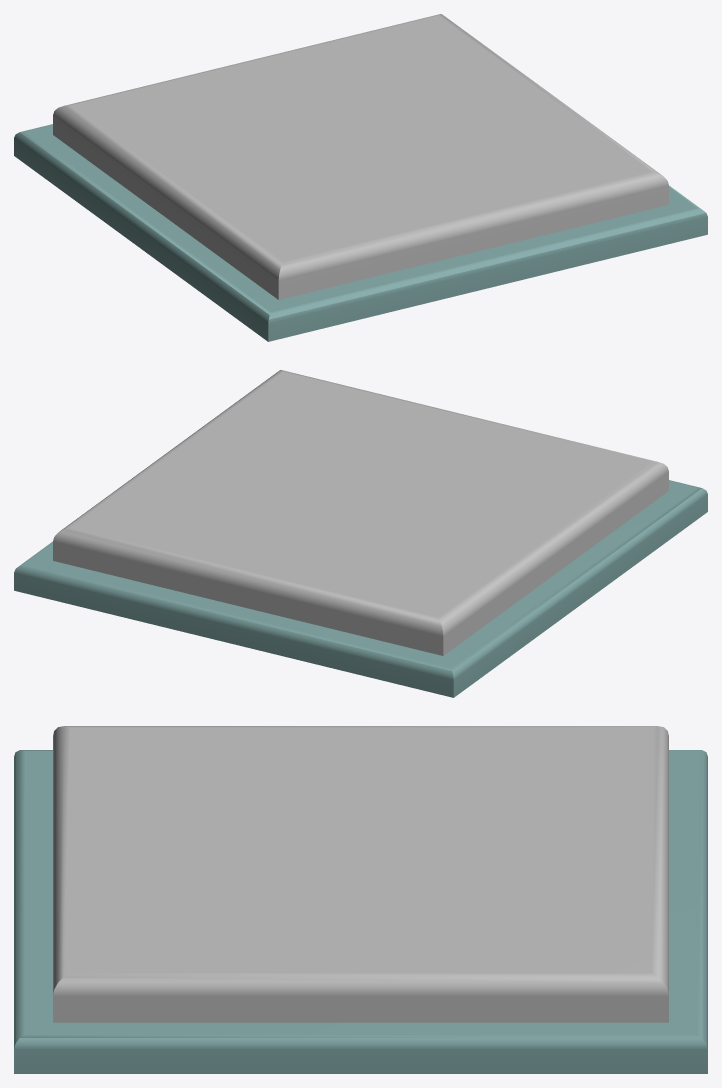
File: SM_house_3-2.fbx
The picture shows the model from 3 angles, top to bottom: view 1: azimuth 30°, elevation 25°; view 2: azimuth 150°, elevation 25°; view 3: azimuth 270°, elevation 25°; orthographic projection. The views are drawn at different scales.
Visible parts, largest first — view 1: polySurface210; view 2: polySurface210; view 3: polySurface210.
Boxes of the visible parts, box(x1,y1,x2,y2) form: polySurface210: box(14, 14, 707, 341); polySurface210: box(14, 370, 707, 697); polySurface210: box(14, 726, 707, 1073).
Size of the model in its own units: 395 by 50.13 by 396.
